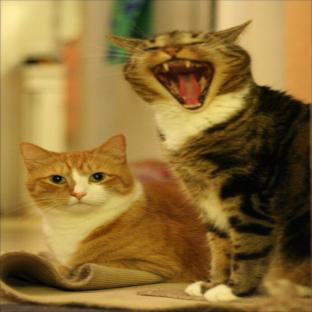Animal: (21, 21, 312, 302)
